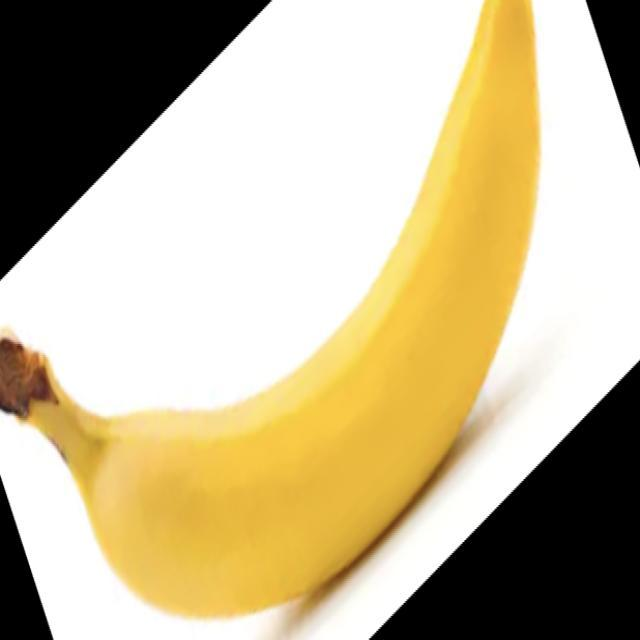Banana: (0, 0, 542, 621)
